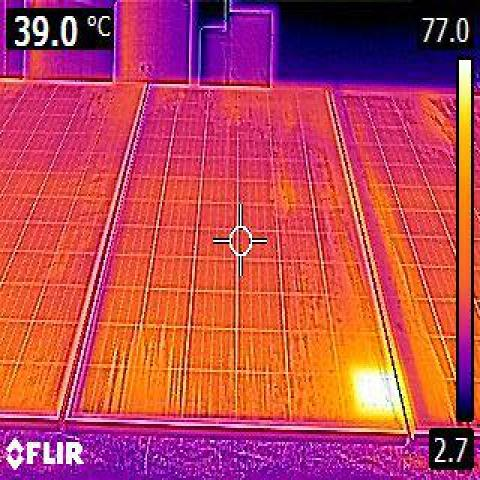fault: (350, 372, 397, 424)
